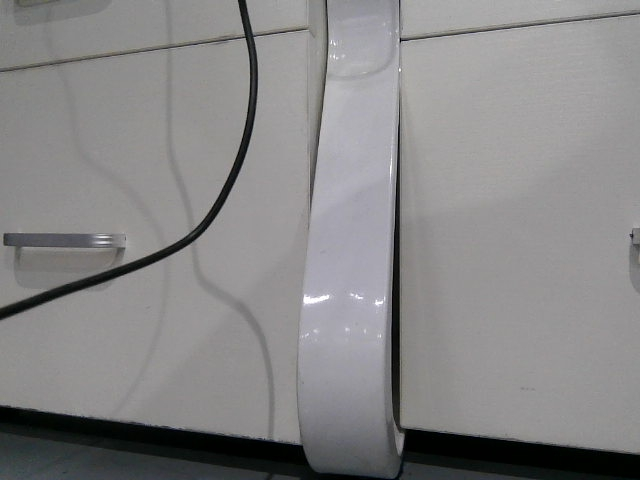car: (212, 138, 383, 243)
